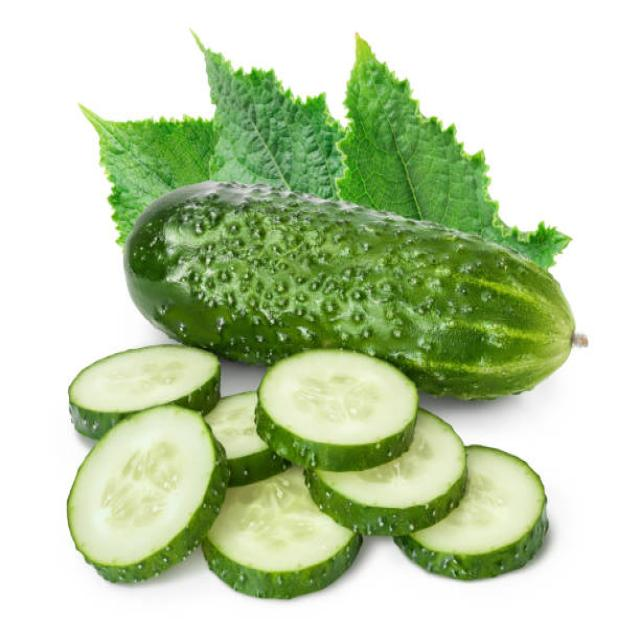cucumber: (123, 181, 578, 399)
